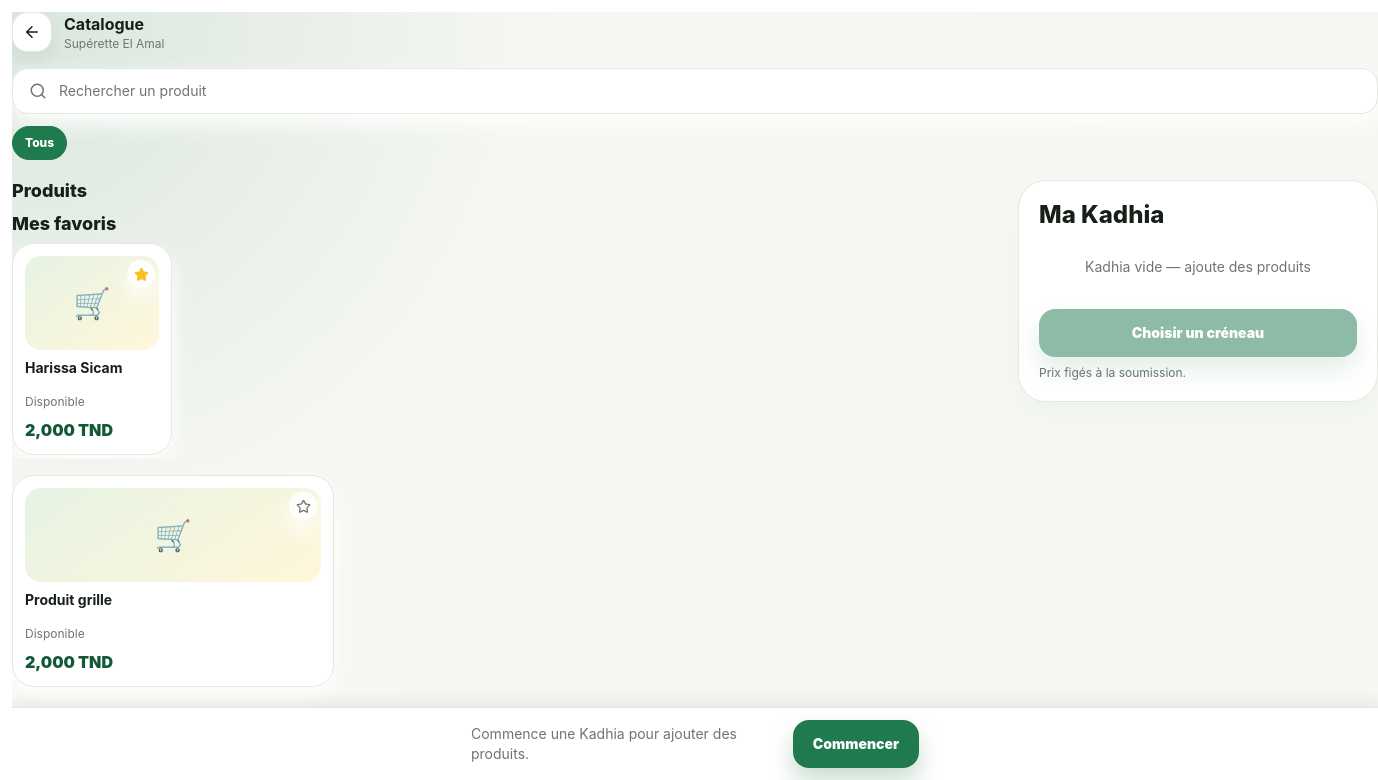
Test: CatalogPage — suggestions et favoris › affiche la section Mes favoris et bascule un favori avec mise à jour optimiste
The image size is (1378, 780).
Expected: the heading "Mes favoris" is shown, [12,212,116,234]
Expected: the text "Harissa Sicam" is shown, [25,359,122,376]
Click the button named "Retirer des favoris Harissa Sicam".
click(141, 274)  # box [127,260,155,288]
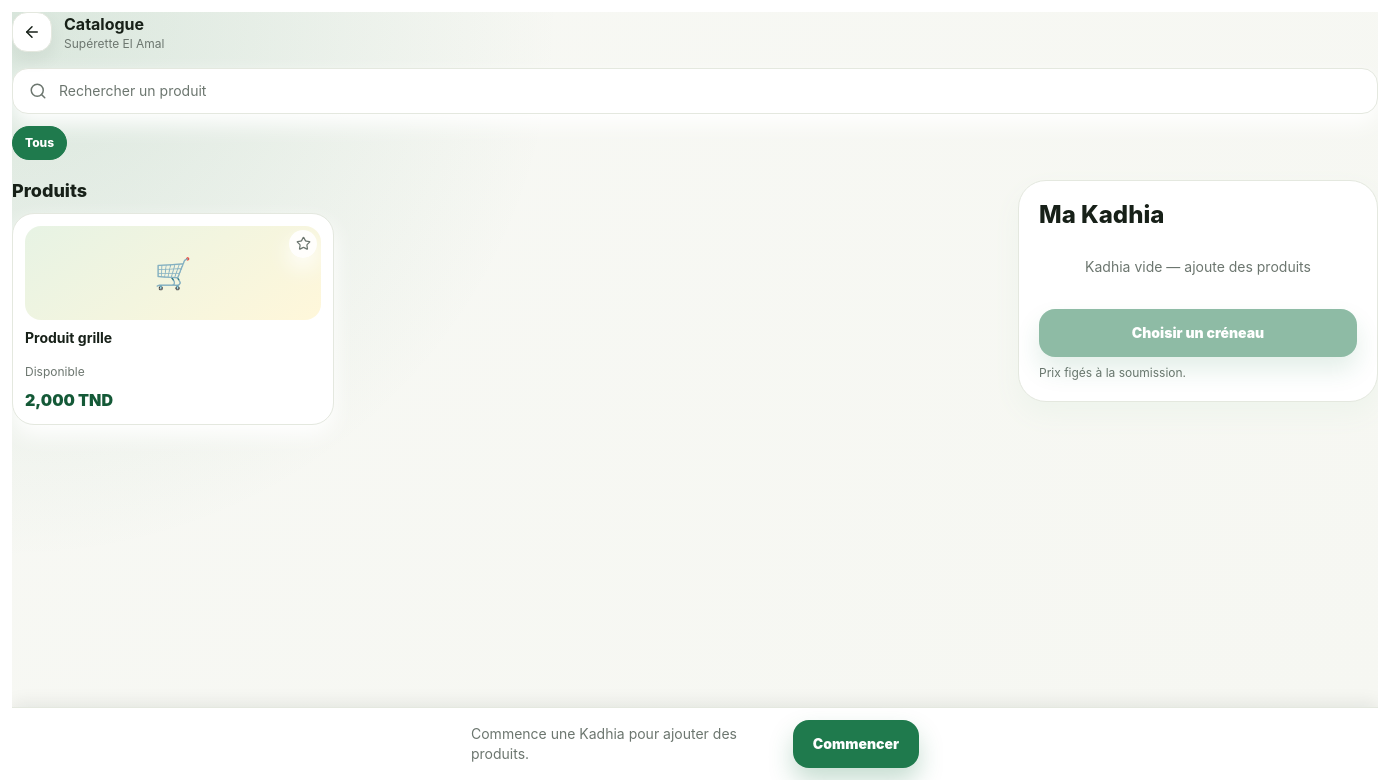
Expected: the heading "Mes favoris" is gone
